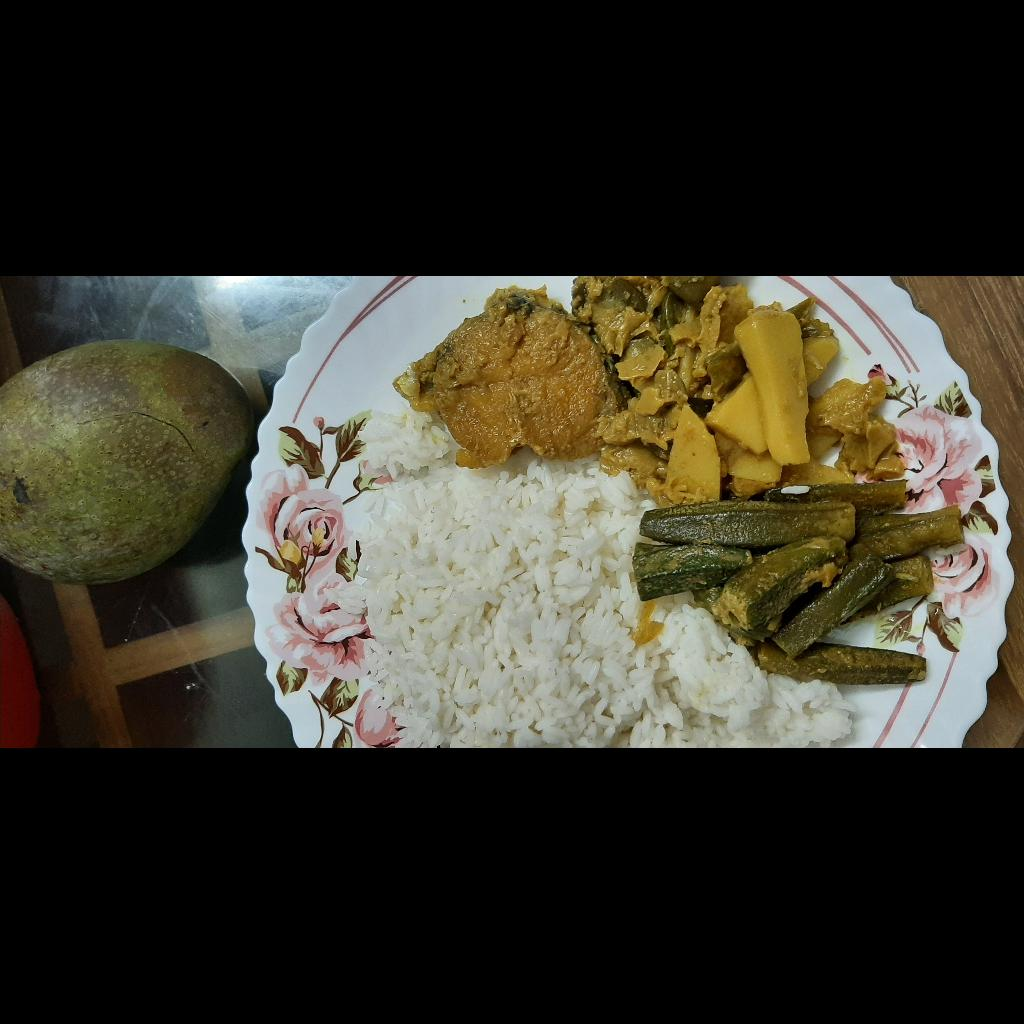fish: (272, 656, 462, 895)
mango: (164, 276, 408, 530)
okra: (86, 906, 243, 1024)
potato: (240, 937, 439, 1024)
rice: (0, 589, 343, 1024)
vegetable: (248, 846, 472, 1022)
